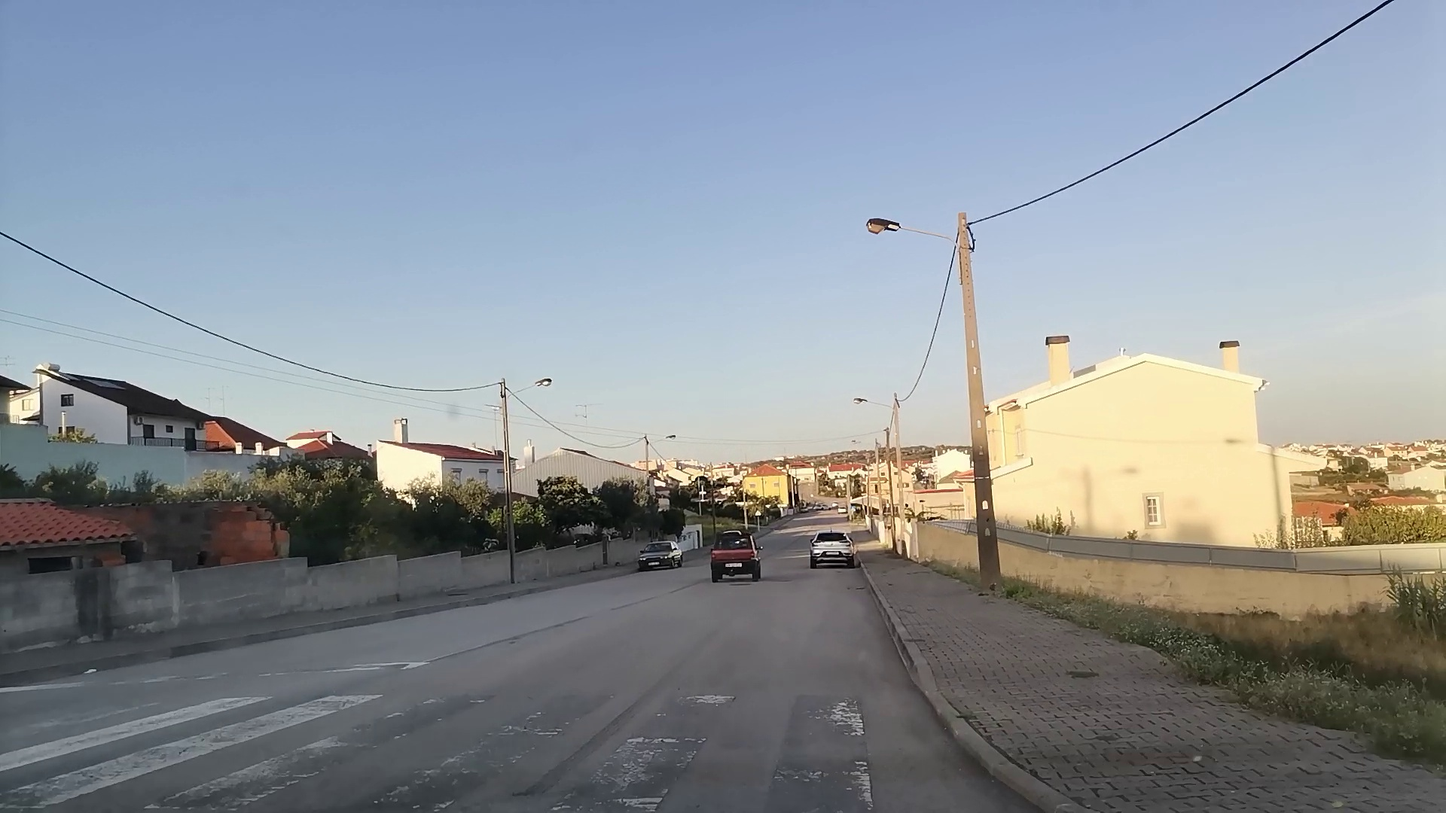Stairs: (1, 671, 898, 813)
